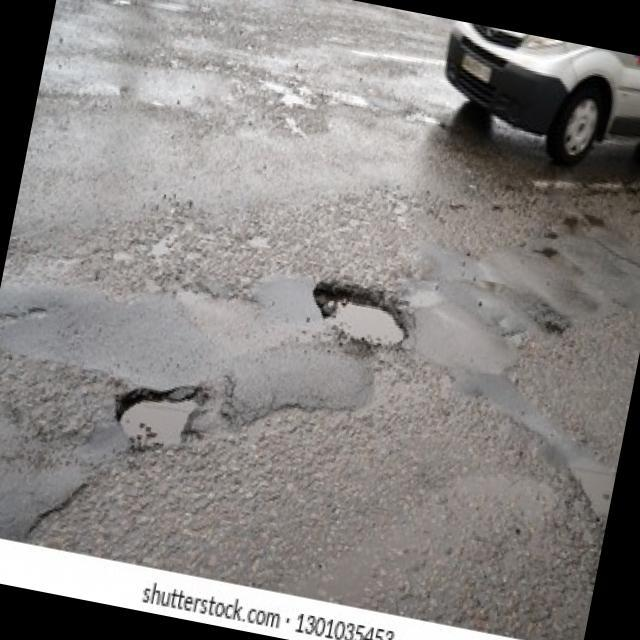Pothole: (304, 274, 417, 353), (110, 372, 206, 453)
